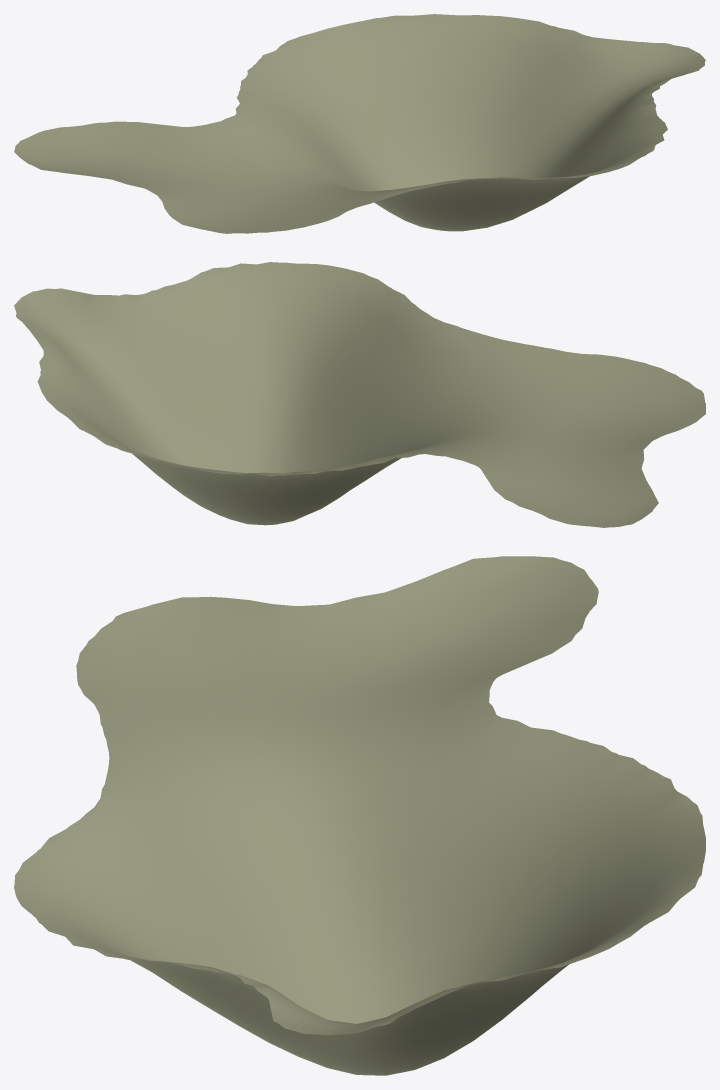
The model's file is SM_ForestBed_ElephantLake.fbx.
3 renders of one model, top to bottom at view 1: azimuth 30°, elevation 25°; view 2: azimuth 150°, elevation 25°; view 3: azimuth 270°, elevation 25°, orthographic. The views are drawn at different scales.
Parts seen in each view (by area): view 1: SM_ForestBed_ElephantLake; view 2: SM_ForestBed_ElephantLake; view 3: SM_ForestBed_ElephantLake.
Boxes of the visible parts, <box> form: SM_ForestBed_ElephantLake: <box>14,14,705,233</box>; SM_ForestBed_ElephantLake: <box>14,262,705,527</box>; SM_ForestBed_ElephantLake: <box>14,556,705,1075</box>.
Bounding box in the file's own units: 1544 × 942 × 303.
